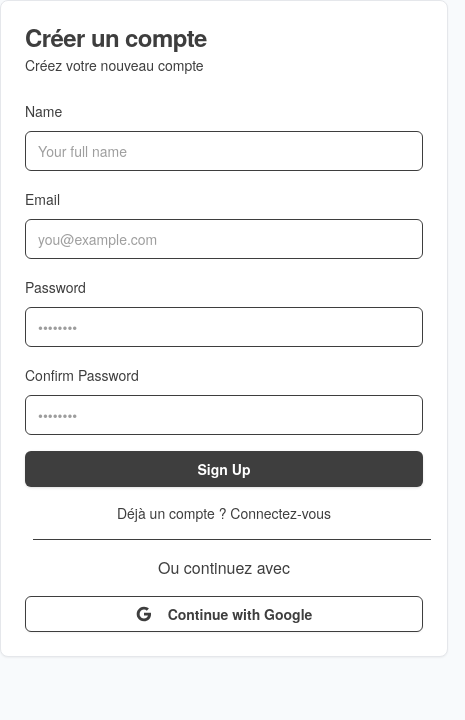
Test: SignUpForm Component › Form Submission › should handle unexpected errors during signup
The image size is (465, 720).
Step 1. Type "John Doe" into the field labelled "Name" → (224, 151), box [25,131,423,171]
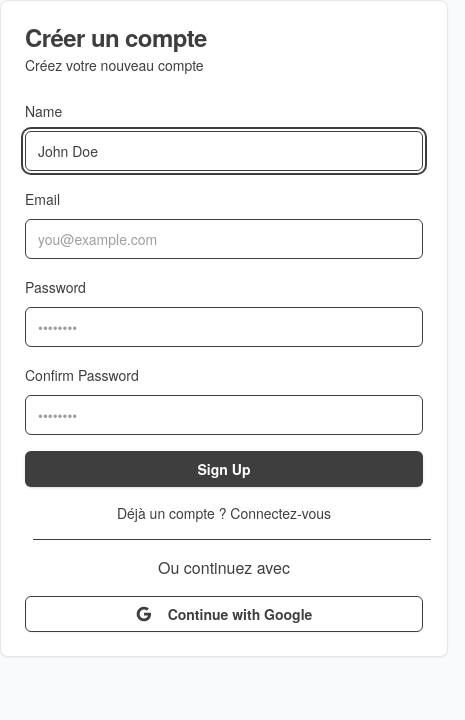
Step 2. Type "john@example.com" into the field labelled "Email" → (224, 239), box [25,219,423,259]
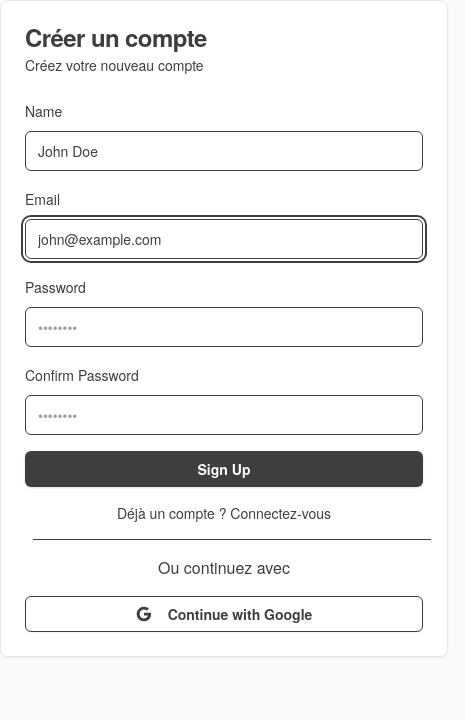
Step 3. Type "Password123" into the password field labelled "Password" → (224, 327), box [25,307,423,347]
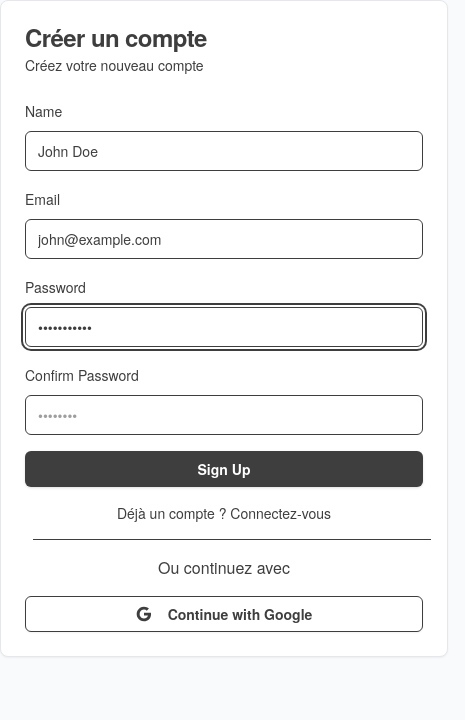
Step 4. Type "Password123" into the password field labelled "Confirm Password" → (224, 415), box [25,395,423,435]
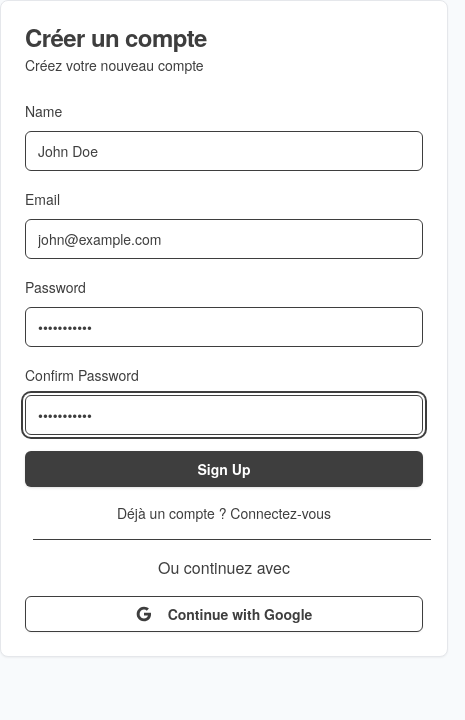
Step 5. Click the button "Sign Up" → (224, 469), box [25,451,423,487]
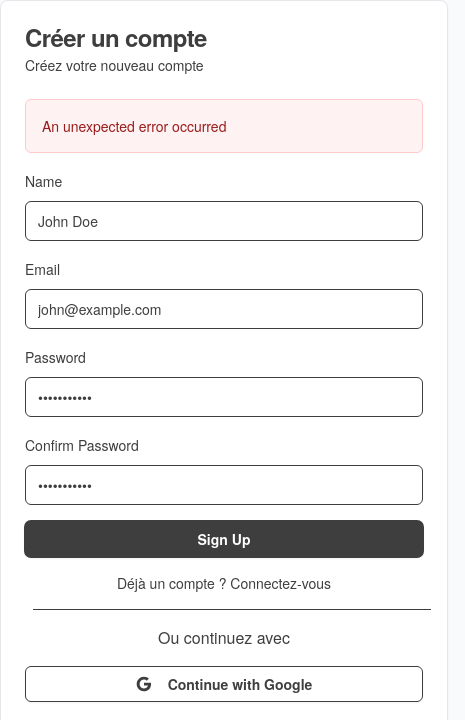
Check: the button "Sign Up" is enabled, box [25,521,423,557]
Check: the text "An unexpected error occurred" is shown, box [25,99,423,153]
